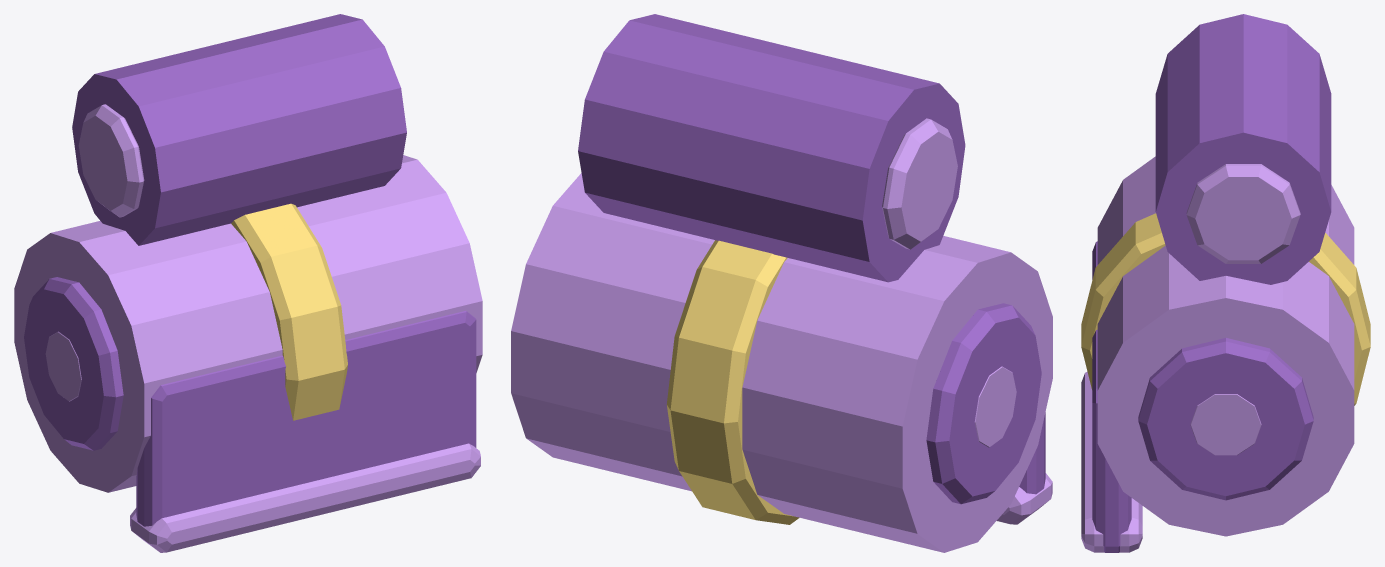
The model's file is game-ui-icon-library-cloth-roll-1a9aa255.glb.
3 renders of one model, left to right at view 1: azimuth 30°, elevation 25°; view 2: azimuth 150°, elevation 25°; view 3: azimuth 270°, elevation 25°, orthographic. The views are drawn at different scales.
Visible parts, largest first — view 1: cloth-roll; view 2: cloth-roll; view 3: cloth-roll.
Boxes of the visible parts, x1=… form: cloth-roll: x1=14, y1=14, x2=482, y2=552; cloth-roll: x1=511, y1=14, x2=1052, y2=552; cloth-roll: x1=1081, y1=14, x2=1370, y2=552.
Bounding box in the file's own units: 0.8871 × 0.94 × 0.6082.
